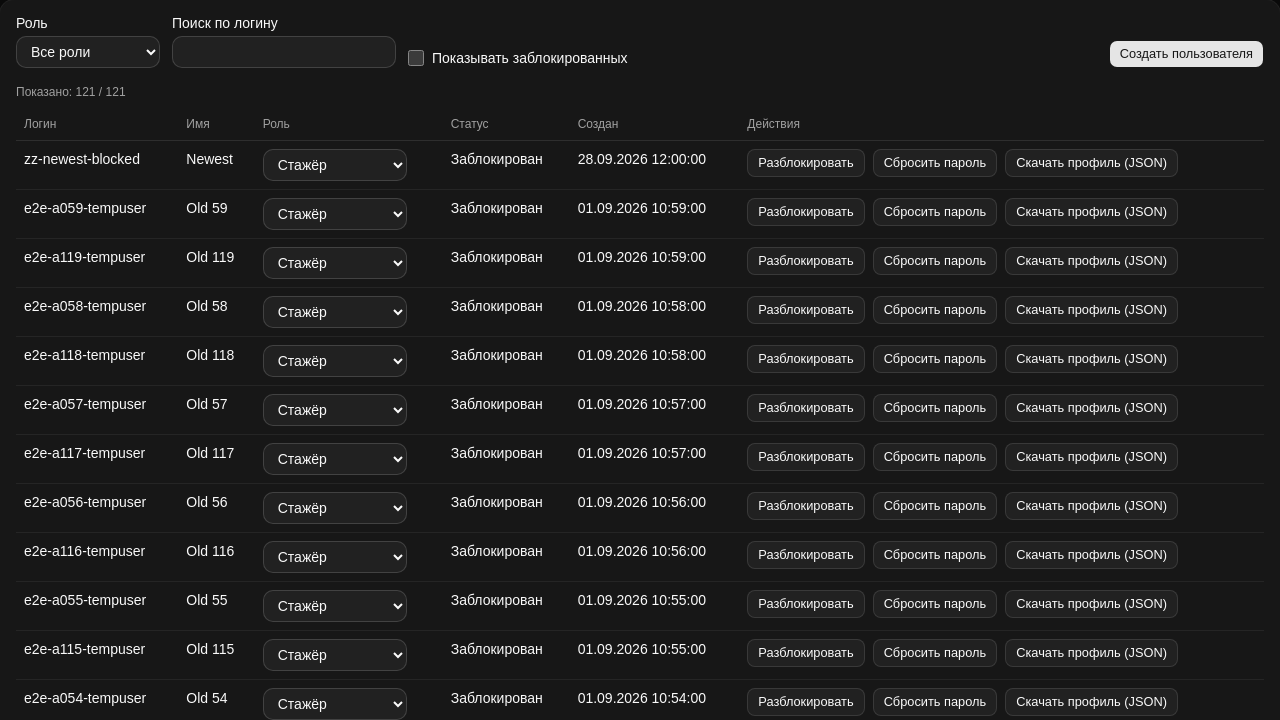
Test case: UsersTab › loads every page, lists the newest account first and filters by login
The image size is (1280, 720).
Click the checkbox labelled "Показывать заблокированных" at (416, 58), box [408, 50, 424, 66]
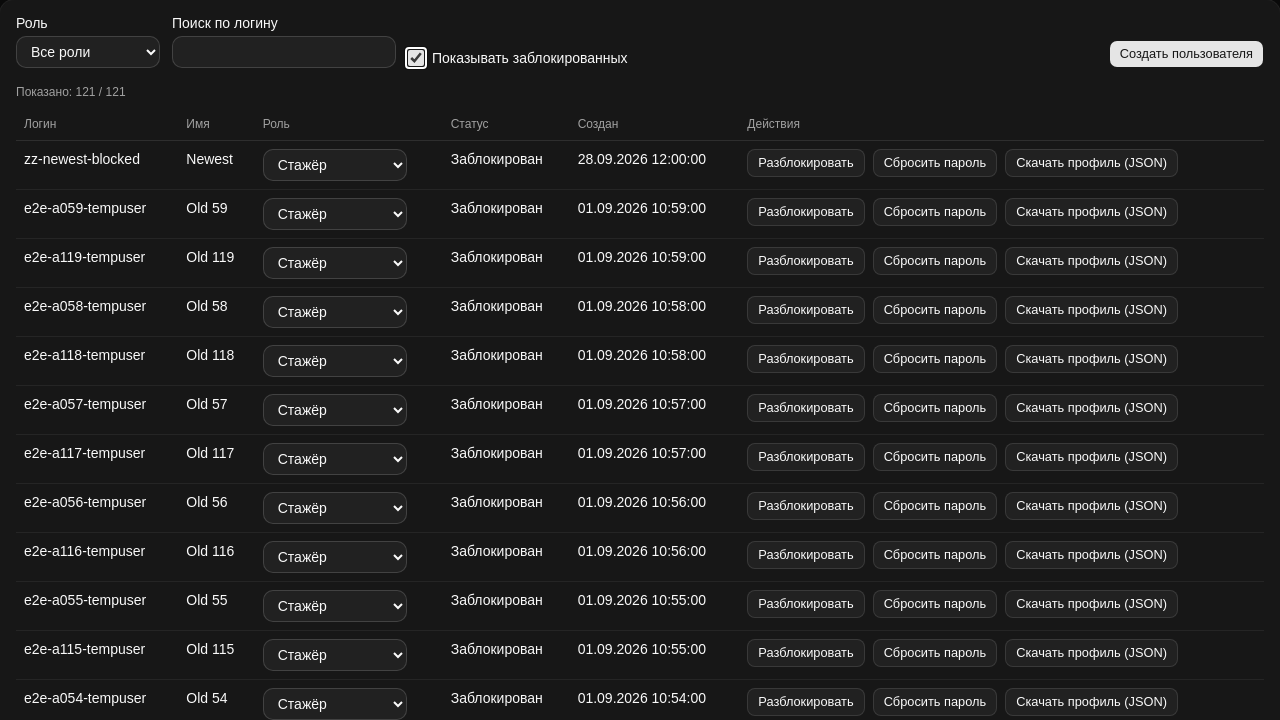
Expected: the text "zz-newest-blocked" is shown, [16, 140, 178, 190]
Expected: the row that starts with "zz-newest-blocked" is shown, [24, 151, 140, 167]
Type "NEWEST" into the search field labelled "Поиск по логину" at (284, 52), box [172, 36, 396, 68]
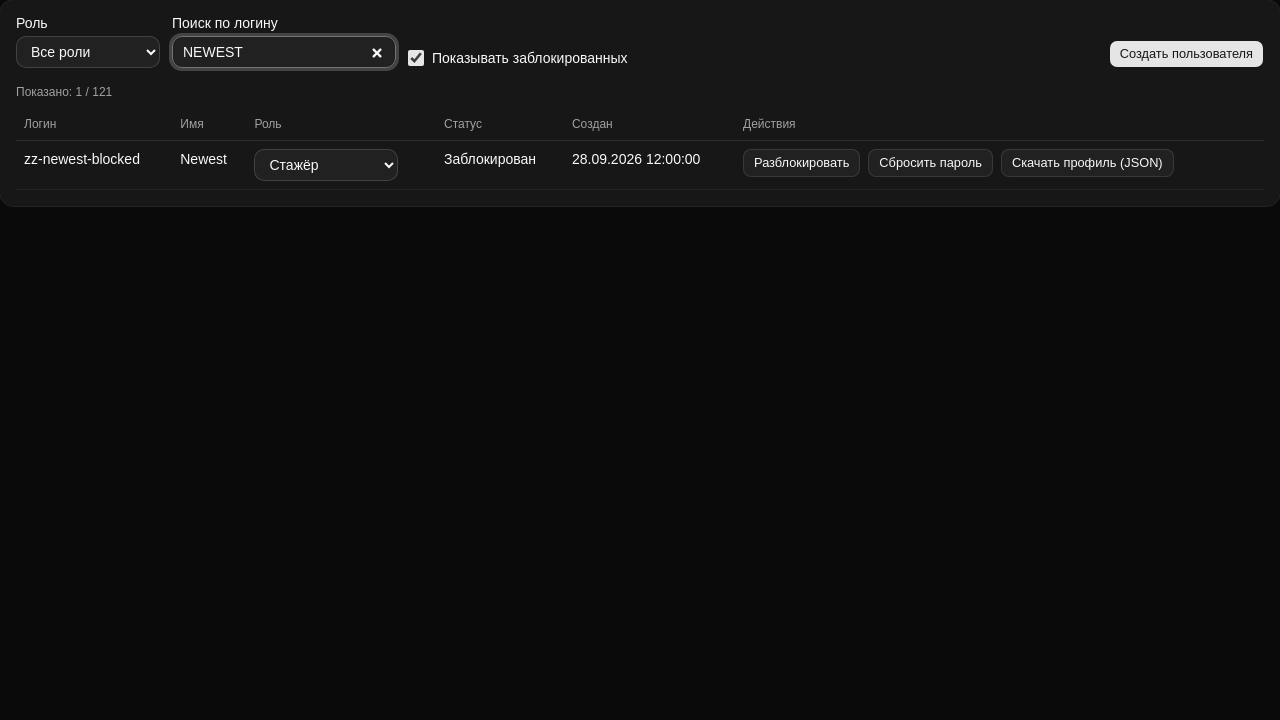
Expected: the text "zz-newest-blocked" is shown, [16, 140, 172, 190]
Replace the text in the search field labelled "Поиск по логину" with "no-such-login" at (284, 52), box [172, 36, 396, 68]
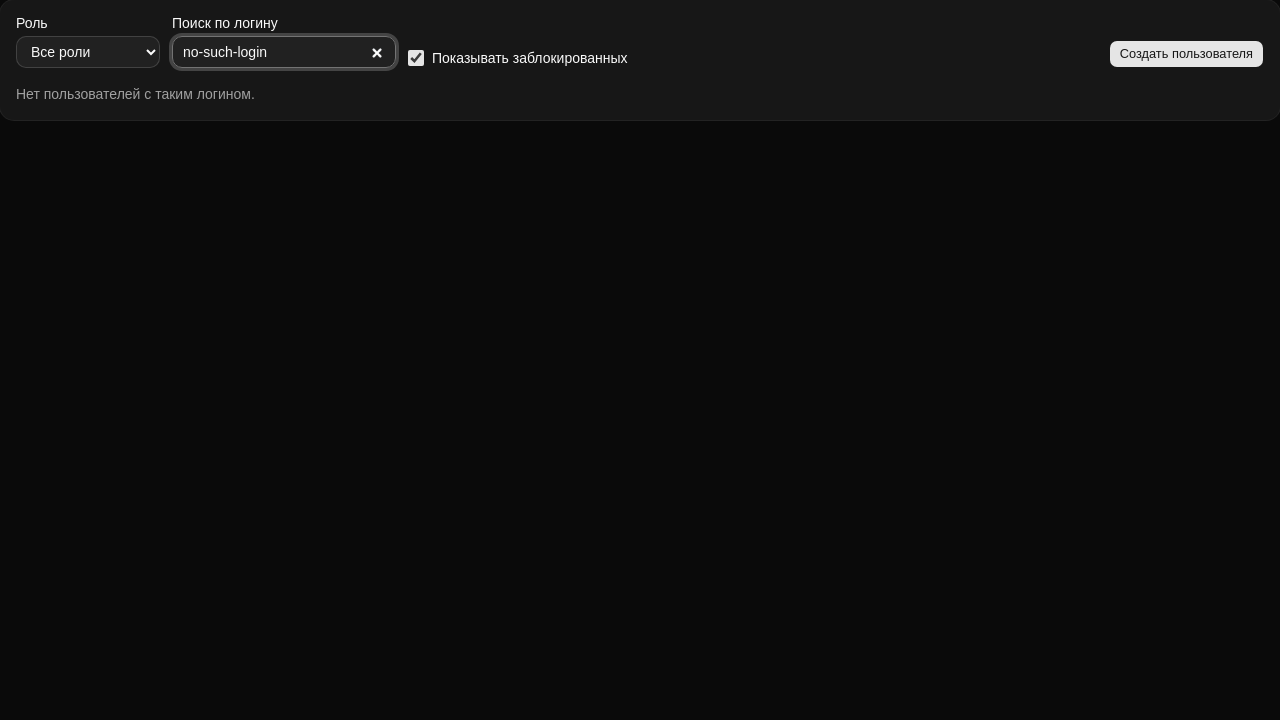
Result: the text "Нет пользователей с таким логином." is shown at [16, 86, 255, 102]
